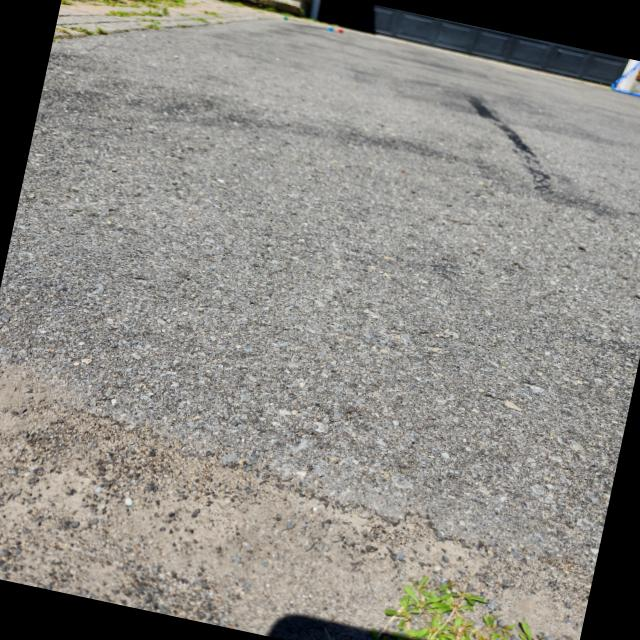bluecube: (326, 26, 334, 32)
green cube: (282, 16, 288, 21)
red cube: (337, 28, 342, 33)
